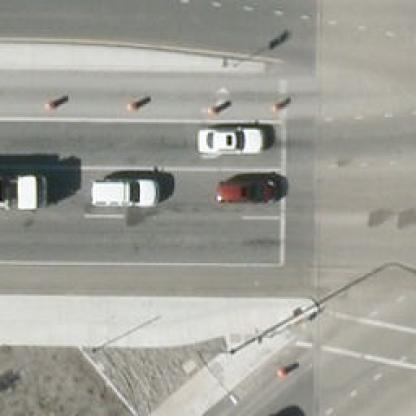car: (212, 172, 289, 205), (84, 178, 162, 206), (195, 128, 267, 156)
truck: (0, 169, 47, 218)
